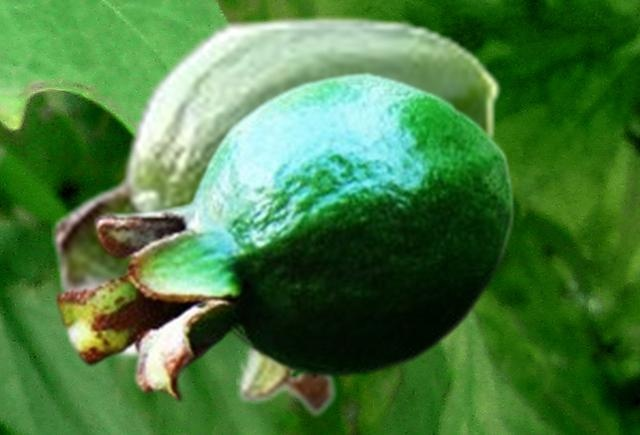guava: (51, 13, 501, 359), (54, 70, 515, 402), (236, 311, 474, 418)
